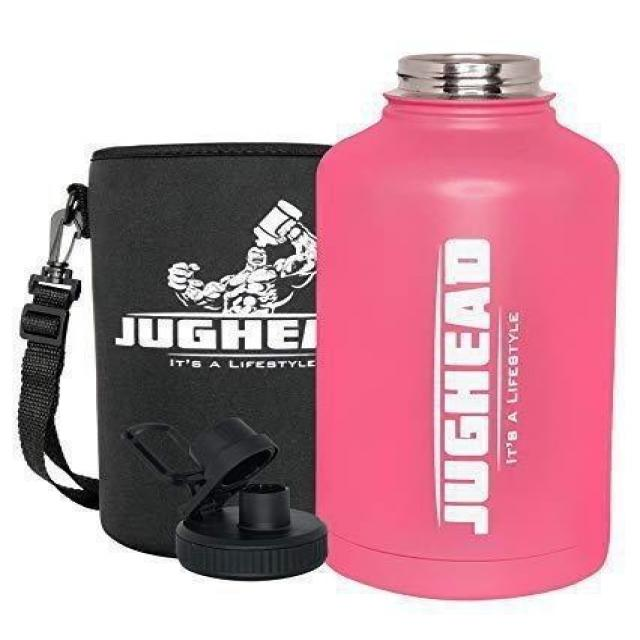gym bottle: (306, 50, 625, 607)
